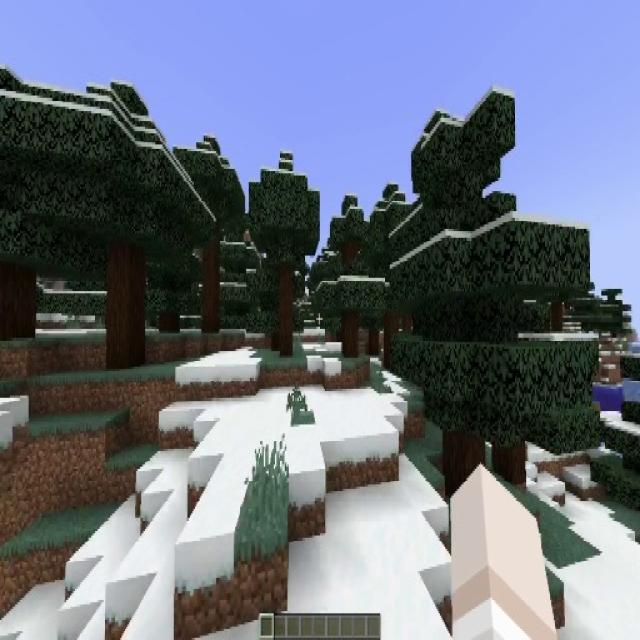spruce: (387, 89, 561, 509), (39, 82, 199, 368), (170, 134, 246, 333), (248, 150, 320, 359), (317, 196, 385, 357)
spruce_log: (105, 243, 146, 366), (443, 430, 488, 502), (0, 267, 35, 340), (201, 234, 220, 332), (493, 436, 524, 484), (279, 274, 293, 356), (340, 312, 356, 358), (160, 311, 178, 336), (369, 328, 378, 354)
